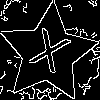X: (23, 28, 72, 83)
